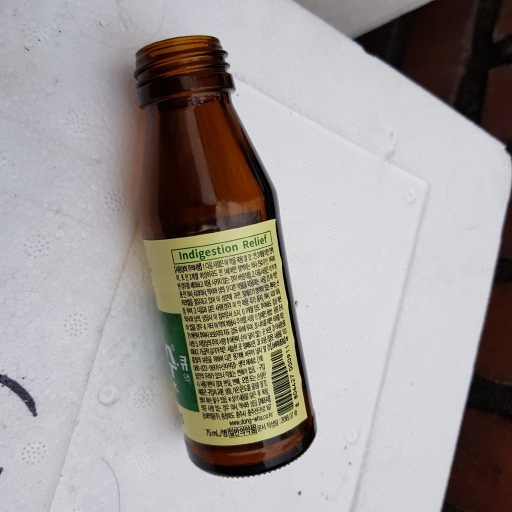Glass_3: (129, 33, 323, 479)
